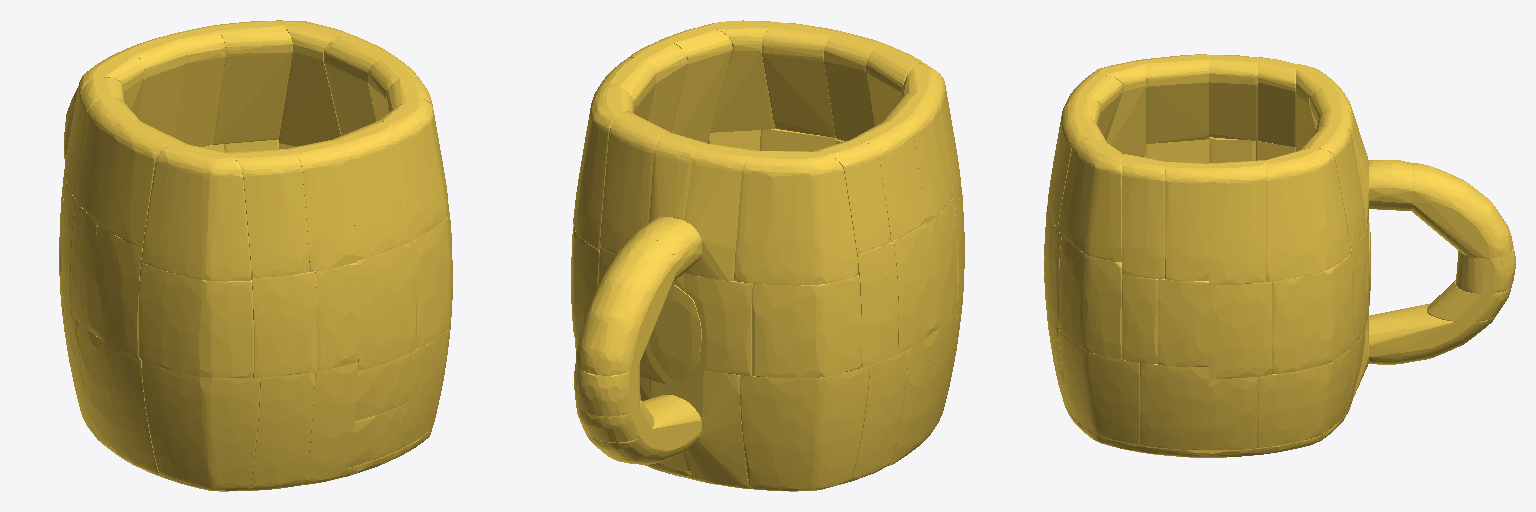
The robot description file, URDF, robot "655.urdf":
<?xml version="1.0" ?>
<robot name="655.urdf">
	<link name="baseLink">
		<inertial>
			<origin rpy="0 0 0" xyz="0 0 0"/>
				<mass value="0.1"/>
				<inertia ixx="6e-5" ixy="0" ixz="0" iyy="6e-5" iyz="0" izz="6e-5"/>
		</inertial>
		<visual>
			<origin rpy="0 0 0" xyz="0 0 0"/>
			<geometry>
				<mesh filename="27_decom_wt.obj" scale="0.99 0.99 0.81"/>
			</geometry>
			<material name="yellow">
				<color rgba="0.98 0.84 0.35 1"/>
			</material>
		</visual>
		<collision>
			<origin rpy="0 0 0" xyz="0 0 0"/>
			<geometry>
				<mesh filename="27_decom_wt.obj" scale="0.99 0.99 0.81"/>
			</geometry>
		</collision>
	</link>
</robot>

--- Render facts (derived) ---
Views: 3 orthographic renders of the robot side by side, from view 1: azimuth 30°, elevation 25°; view 2: azimuth 150°, elevation 25°; view 3: azimuth 270°, elevation 25°.
Model 655.urdf with 1 links and 0 joints (none), rooted at baseLink, posed every joint at zero.
Visible links, largest first — view 1: baseLink; view 2: baseLink; view 3: baseLink.
Link boxes in pixels (left/top/right/bottom): baseLink: left=59, top=20, right=452, bottom=491; baseLink: left=571, top=20, right=964, bottom=491; baseLink: left=1044, top=54, right=1515, bottom=457.
Size in the robot's own frame: 0.0996 by 0.1434 by 0.0965 metres.
1 mesh visuals loaded from 1 distinct referenced files (1 OBJ).